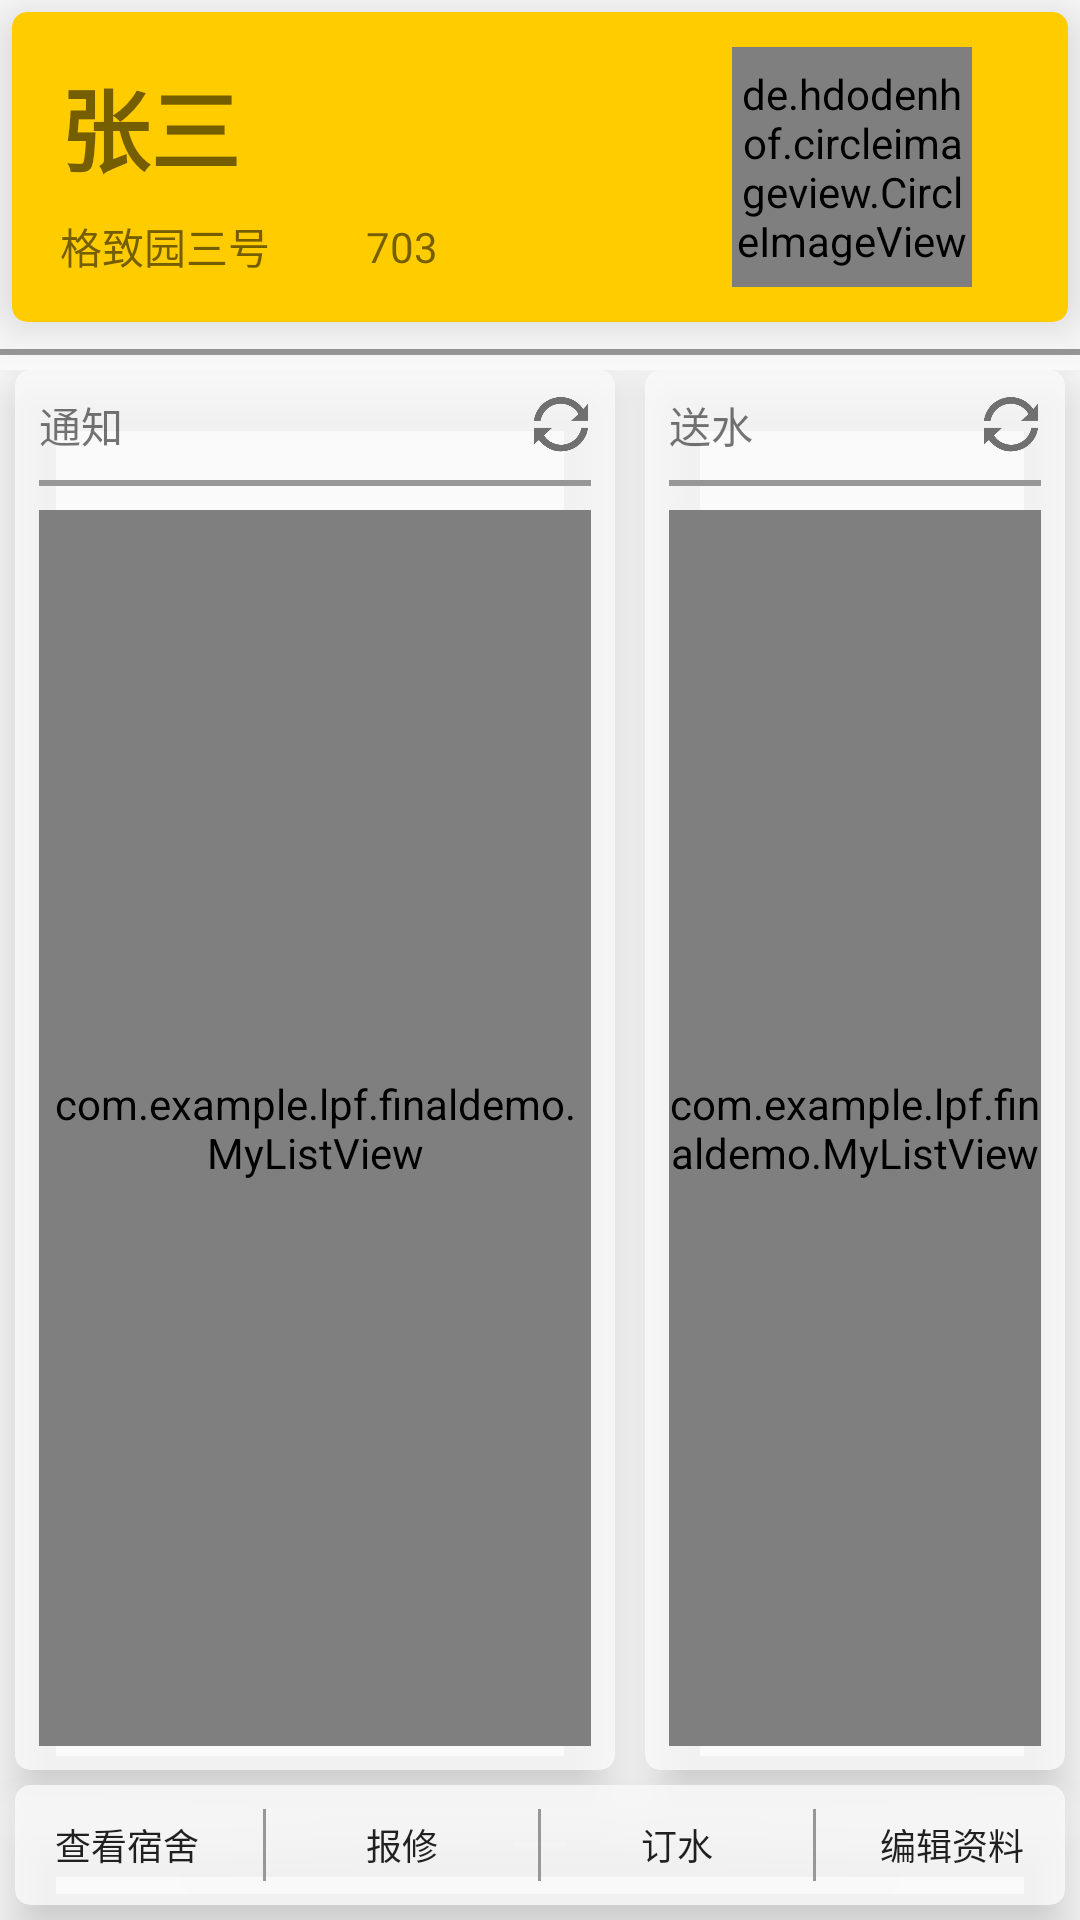

Icon bounding boxes for this 1080 × 1920 phone screenshot, format (x1, y1, x2, y2):
update: (534, 397, 588, 452), (984, 397, 1038, 452)
